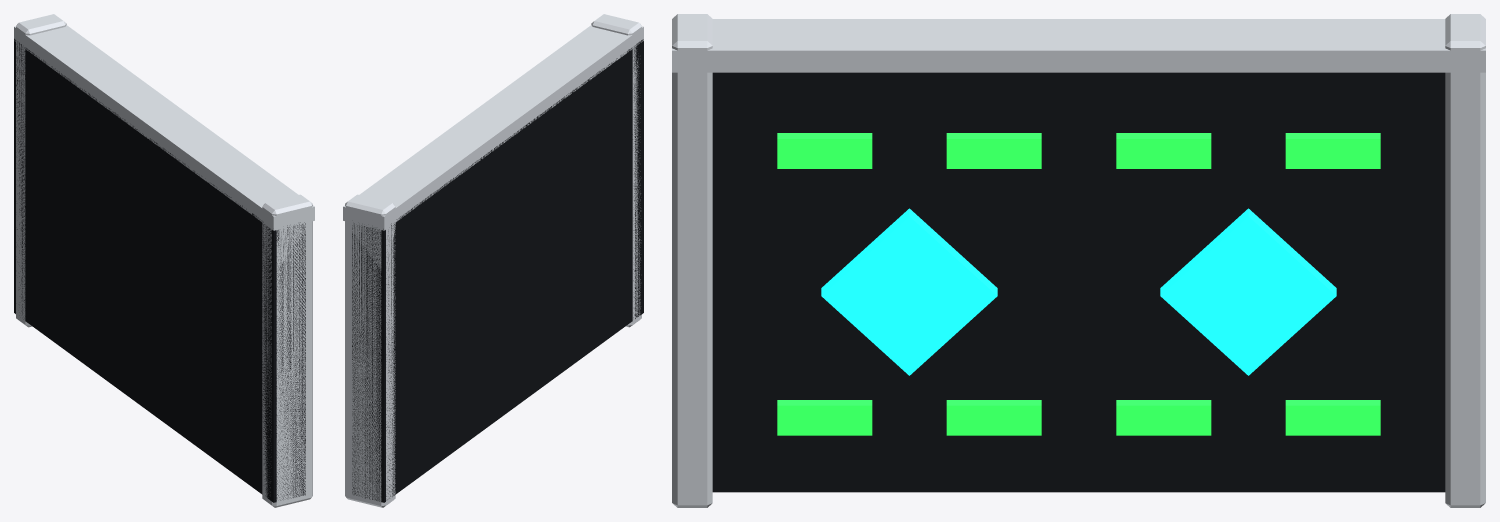
Rendered from skirt_neon_gems.glb.
The picture shows the model from 3 angles, left to right: view 1: azimuth 30°, elevation 25°; view 2: azimuth 150°, elevation 25°; view 3: azimuth 270°, elevation 25°; orthographic projection. The views are drawn at different scales.
Parts seen in each view (by area): view 1: skirt_neon_gems_MID_deco_body, skirt_neon_gems_HEAD_chrome, skirt_neon_gems_MID_chrome, skirt_neon_gems_HEAD_deco_body, skirt_neon_gems_TAIL_deco_body, skirt_neon_gems_TAIL_chrome; view 2: skirt_neon_gems_MID_deco_body, skirt_neon_gems_TAIL_chrome, skirt_neon_gems_MID_chrome, skirt_neon_gems_TAIL_deco_body, skirt_neon_gems_HEAD_deco_body, skirt_neon_gems_HEAD_chrome; view 3: skirt_neon_gems_MID_deco_body, skirt_neon_gems_MID_chrome, skirt_neon_gems_MID_deco_neon, skirt_neon_gems_MID_deco_led, skirt_neon_gems_HEAD_chrome, skirt_neon_gems_TAIL_chrome, skirt_neon_gems_HEAD_deco_body, skirt_neon_gems_TAIL_deco_body.
Part boxes in pixels (bbox=[...]): skirt_neon_gems_MID_deco_body: bbox=[35, 55, 251, 486]; skirt_neon_gems_HEAD_chrome: bbox=[252, 191, 314, 507]; skirt_neon_gems_MID_chrome: bbox=[35, 32, 292, 214]; skirt_neon_gems_HEAD_deco_body: bbox=[252, 213, 305, 502]; skirt_neon_gems_TAIL_deco_body: bbox=[14, 38, 35, 328]; skirt_neon_gems_TAIL_chrome: bbox=[14, 14, 76, 327]; skirt_neon_gems_MID_deco_body: bbox=[406, 55, 622, 486]; skirt_neon_gems_TAIL_chrome: bbox=[343, 191, 405, 507]; skirt_neon_gems_MID_chrome: bbox=[365, 32, 622, 214]; skirt_neon_gems_TAIL_deco_body: bbox=[352, 213, 405, 502]; skirt_neon_gems_HEAD_deco_body: bbox=[622, 39, 643, 328]; skirt_neon_gems_HEAD_chrome: bbox=[581, 14, 643, 327]; skirt_neon_gems_MID_deco_body: bbox=[740, 72, 1417, 492]; skirt_neon_gems_MID_chrome: bbox=[740, 19, 1417, 72]; skirt_neon_gems_MID_deco_neon: bbox=[821, 208, 1336, 375]; skirt_neon_gems_MID_deco_led: bbox=[777, 133, 1380, 435]; skirt_neon_gems_HEAD_chrome: bbox=[672, 14, 739, 507]; skirt_neon_gems_TAIL_chrome: bbox=[1418, 14, 1485, 507]; skirt_neon_gems_HEAD_deco_body: bbox=[712, 72, 739, 492]; skirt_neon_gems_TAIL_deco_body: bbox=[1418, 72, 1445, 492].
Bounding box in the file's own units: 0.061 × 0.38 × 0.6.
